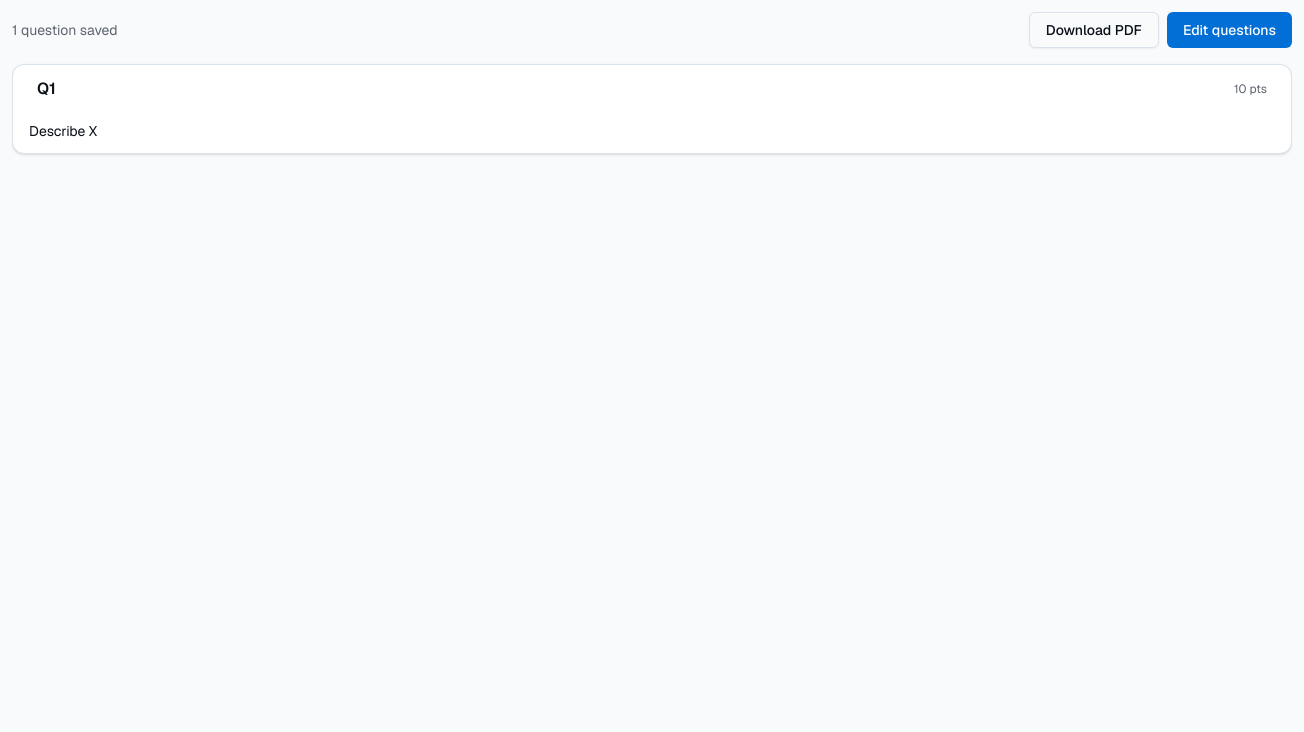
Scenario: canEdit=true with saved questions (view mode) › Edit questions button switches to edit form
Click the button "Edit questions" at (1229, 30), box [1167,12,1292,48]
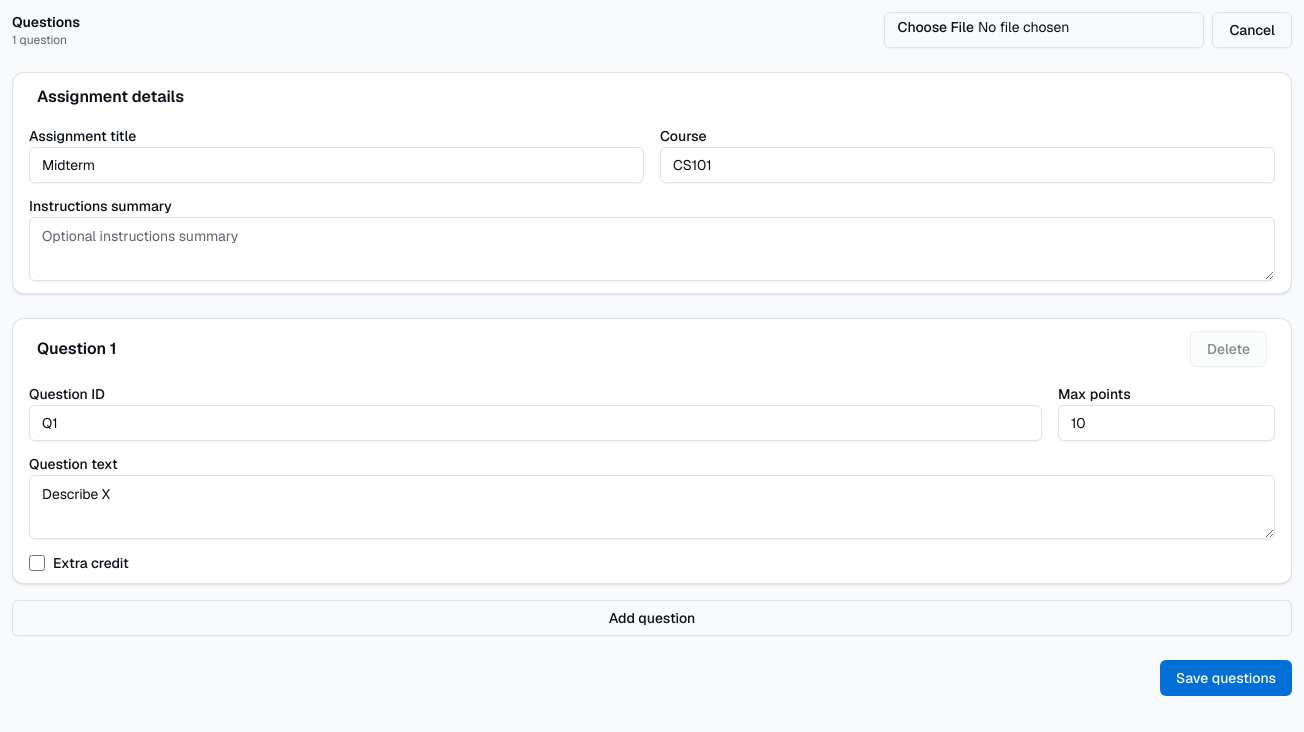
Expected: the form is shown
